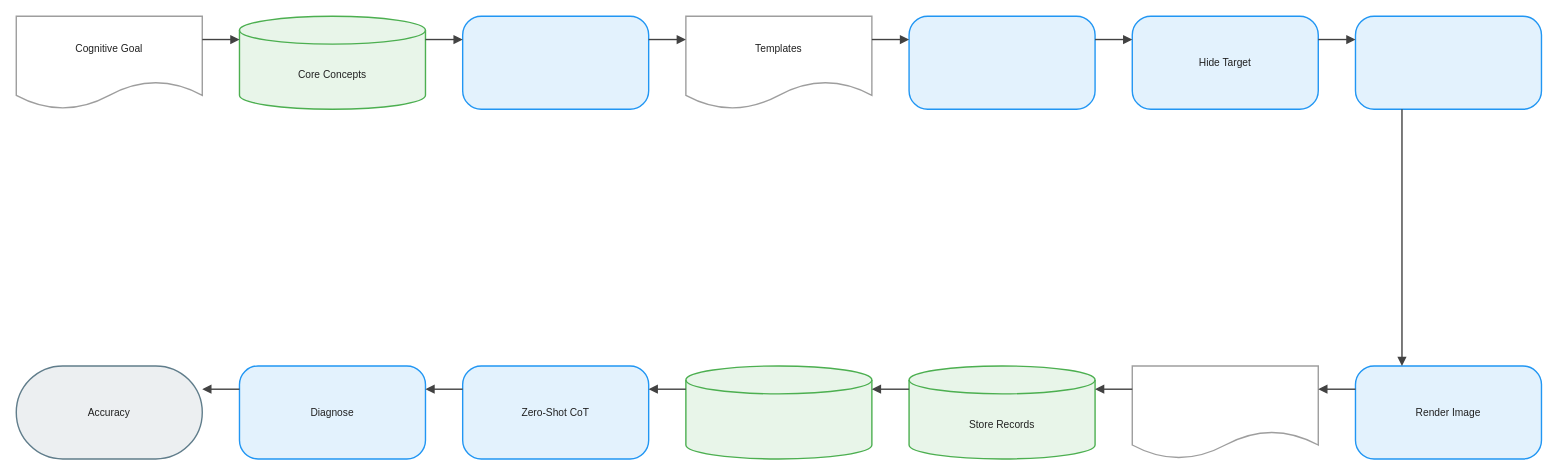
This 1559x476 diagram has some shape labels left out. Each missing label, with the box of its shape:
2,000 Samples: (685, 365, 872, 459)
Gold Rationale: (1131, 365, 1319, 459)
Make Choices: (1354, 15, 1542, 110)
Puzzle Types: (462, 15, 649, 110)
Sample Objects: (908, 15, 1095, 110)
